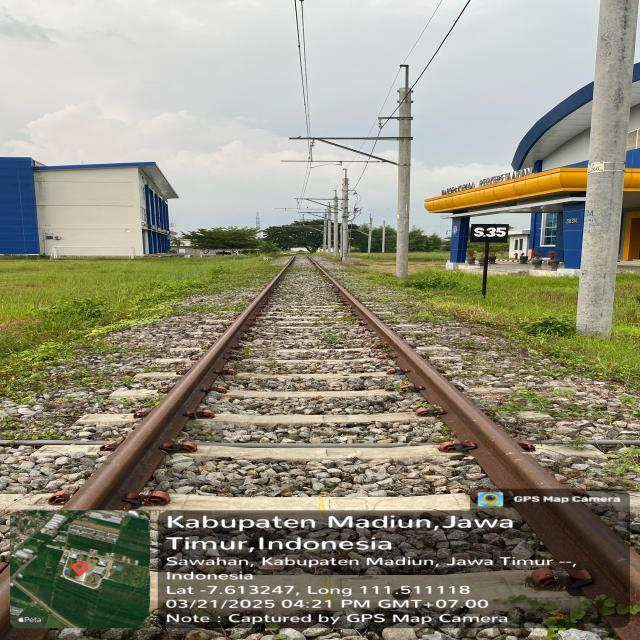rail-detection: (62, 256, 297, 510), (308, 257, 563, 490), (519, 508, 640, 600)
